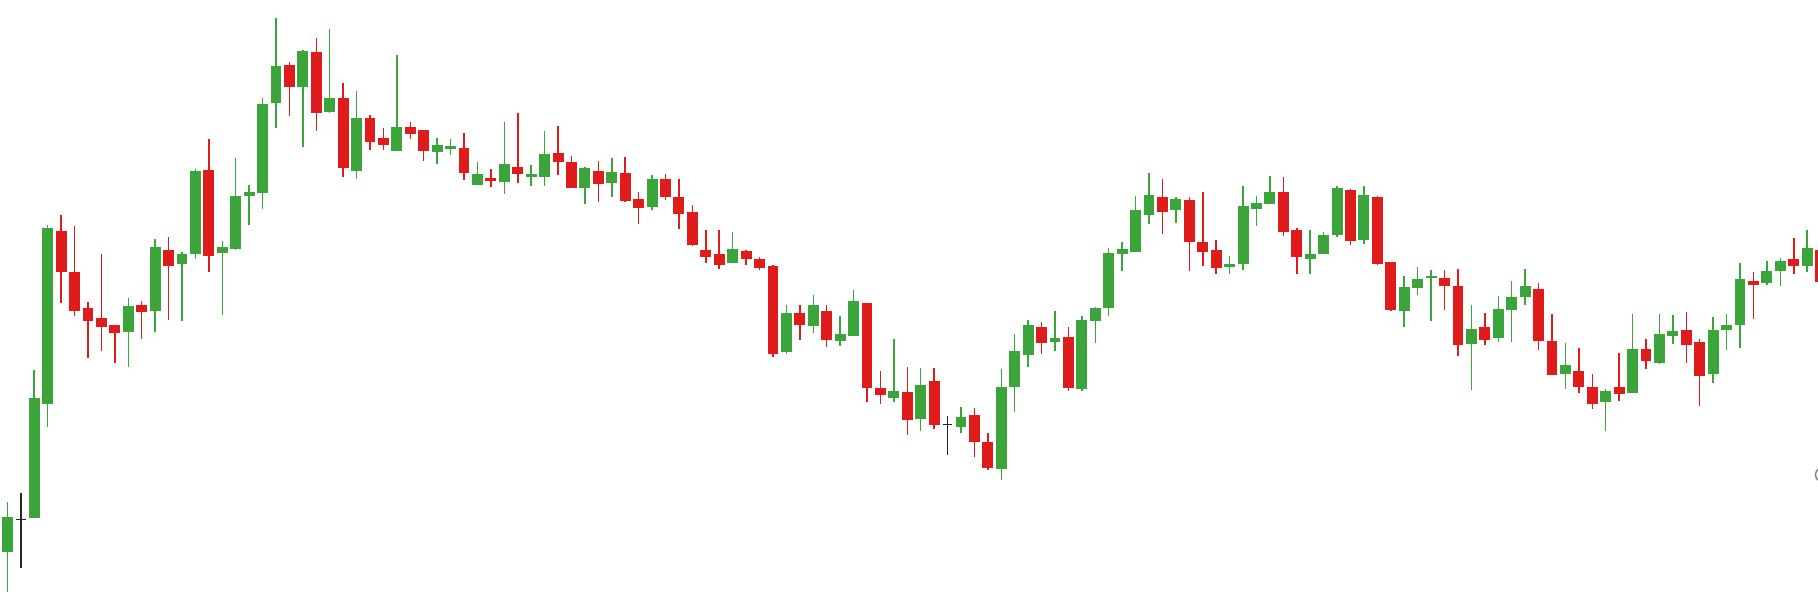sell: (1197, 171, 1293, 259)
